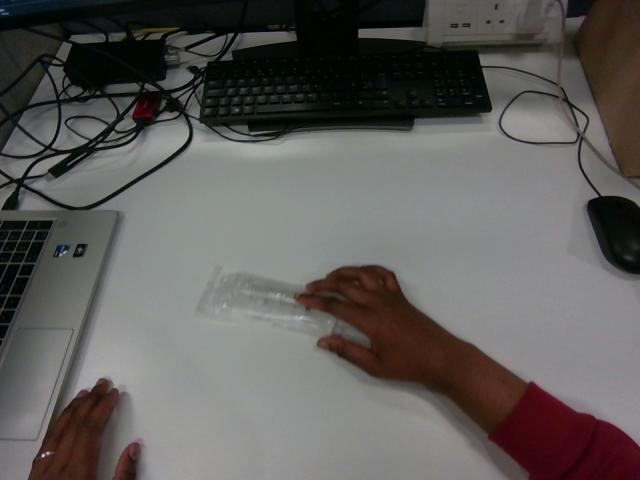syringe: (198, 267, 369, 346), (198, 268, 335, 335)
